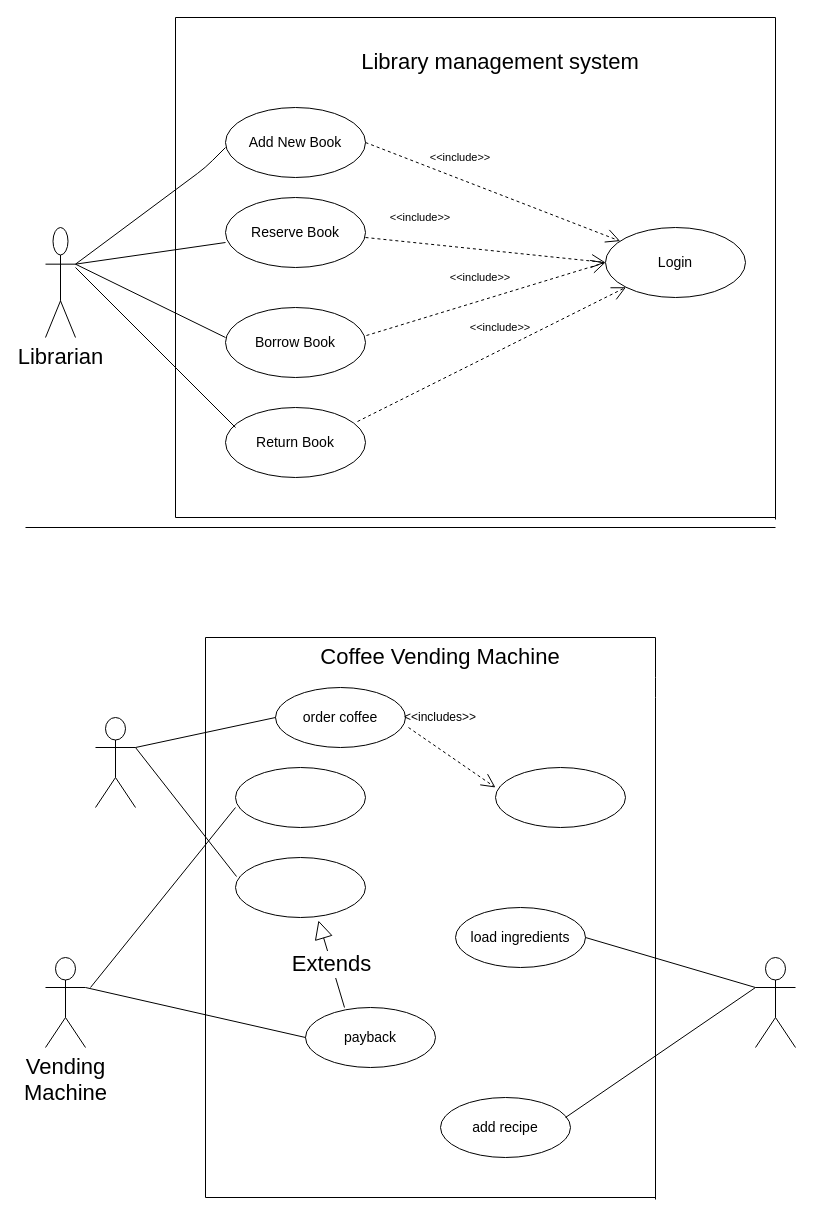
This 829x1218 diagram has some shape labels left out. The box of each missing label's shape, as (x1, y1, x2, y2) in pixels:
Customer: (94, 716, 136, 808)
dispense coffee: (234, 766, 366, 828)
pay coins: (234, 856, 366, 918)
select recipe: (494, 766, 626, 828)
Service Staff: (754, 956, 796, 1048)
